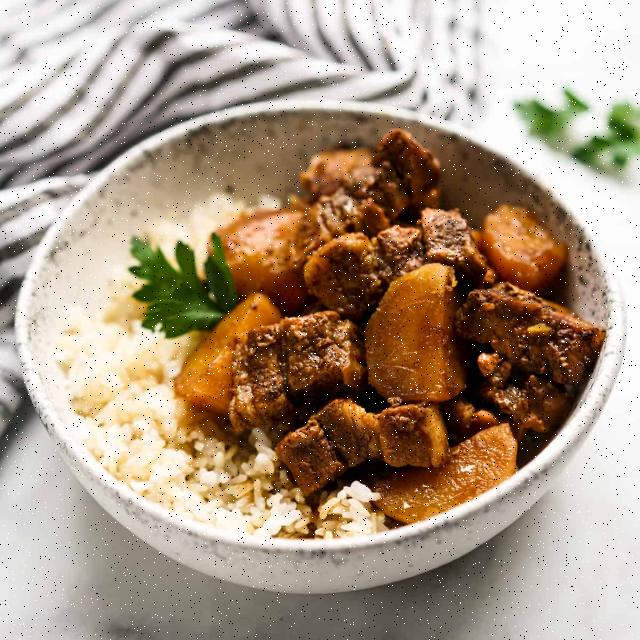Pork: (229, 129, 486, 495), (445, 283, 605, 440)
Potato: (175, 206, 310, 416), (366, 263, 467, 402), (380, 421, 517, 523), (471, 205, 567, 293)
Rice: (51, 268, 389, 539), (141, 195, 251, 261)
